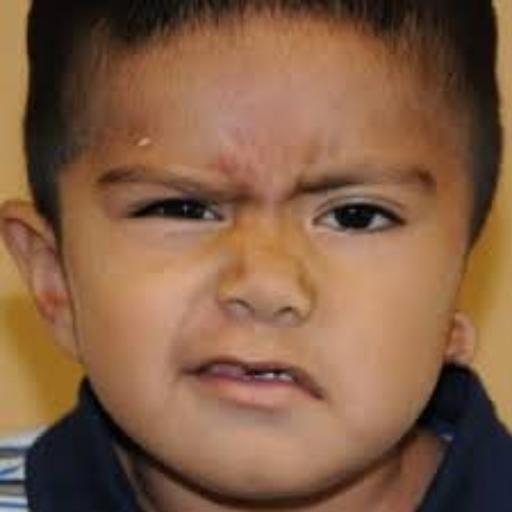left_eye: (307, 202, 411, 239)
left_lip_corner: (300, 370, 335, 412)
right_eye: (126, 195, 230, 229)
right_lip_corner: (172, 361, 204, 387)
